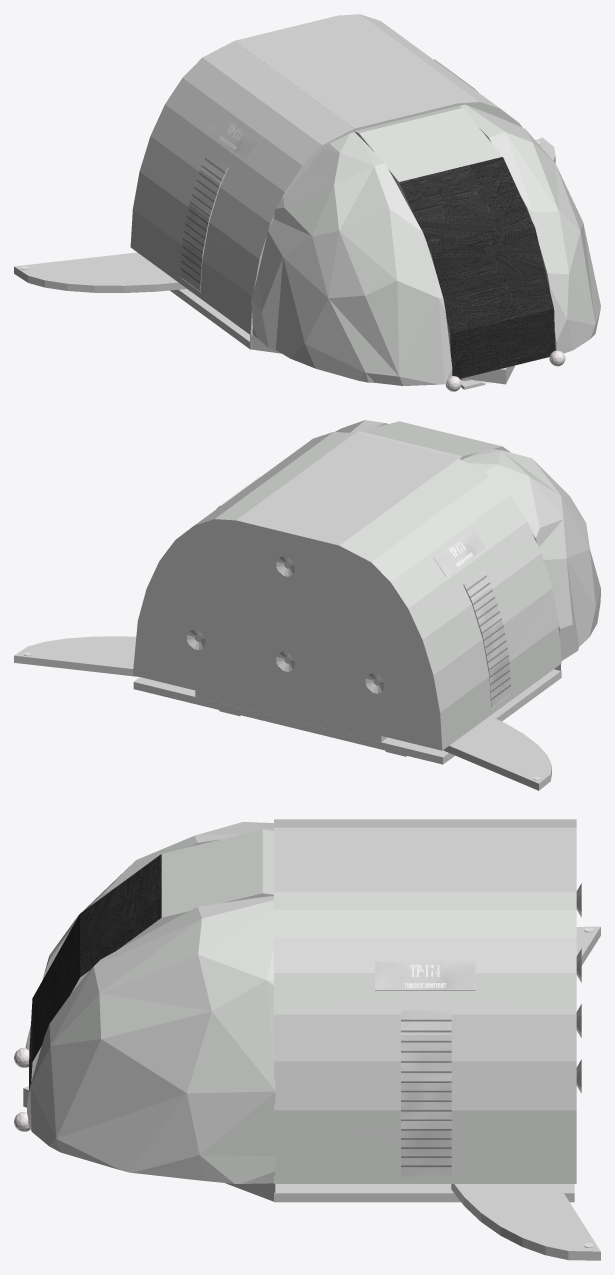
3 renders of one model, top to bottom at view 1: azimuth 30°, elevation 25°; view 2: azimuth 150°, elevation 25°; view 3: azimuth 270°, elevation 25°, orthographic. The views are drawn at different scales.
Visible parts, largest first — view 1: node_id11 (×4), node_id8; view 2: node_id11 (×3), node_id8, node_id5; view 3: node_id11 (×4), node_id5, node_id8.
Part boxes in pixels (x1,y1,x2,y2): node_id11 (×4): (130,14,600,389); node_id8: (14,252,186,292); node_id11 (×3): (133,420,600,764); node_id8: (443,716,551,790); node_id5: (14,636,138,676); node_id11 (×4): (23,819,581,1202); node_id5: (451,1184,600,1260); node_id8: (576,926,600,965).
Bounding box in the file's own units: 0.512 × 0.2049 × 0.3907.
Materials: 13 (7 with a texture image).
